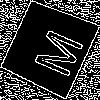M: (24, 23, 85, 80)
